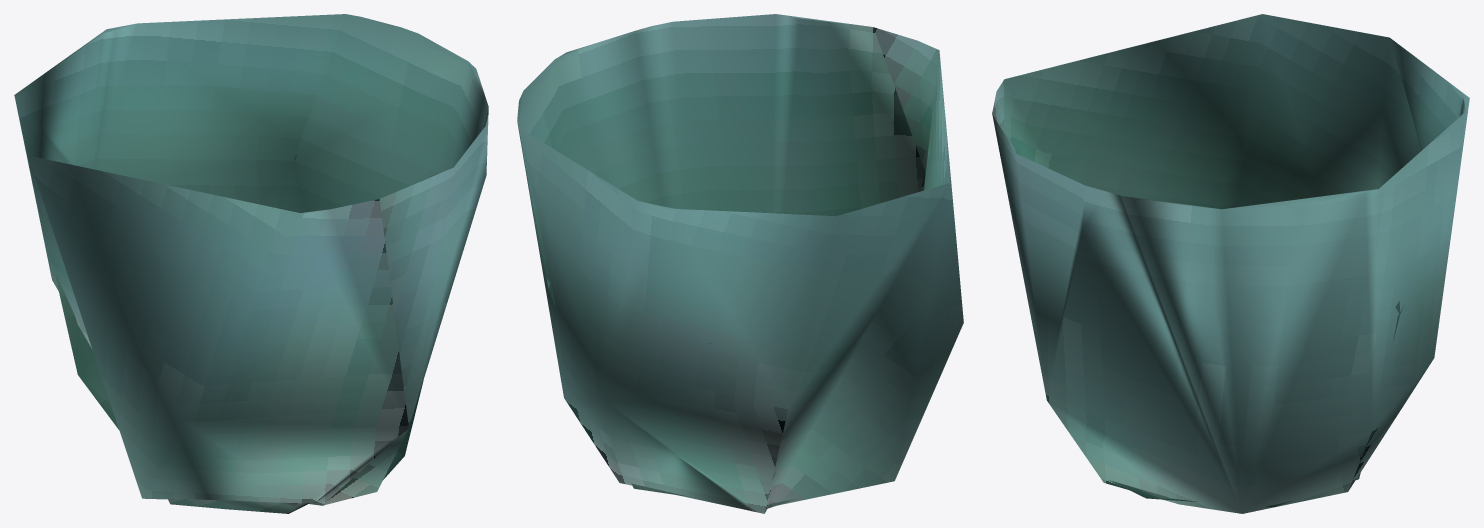
Rendered from Ecoforms_Plant_Container_SB9Turquoise-low.glb.
3 renders of one model, left to right at view 1: azimuth 30°, elevation 25°; view 2: azimuth 150°, elevation 25°; view 3: azimuth 270°, elevation 25°, orthographic.
Parts seen in each view (by area): view 1: Ecoforms_Plant_Container_SB9Turquoise; view 2: Ecoforms_Plant_Container_SB9Turquoise; view 3: Ecoforms_Plant_Container_SB9Turquoise.
Part boxes in pixels (left/top/right/bottom): Ecoforms_Plant_Container_SB9Turquoise: left=14, top=14, right=488, bottom=513; Ecoforms_Plant_Container_SB9Turquoise: left=517, top=14, right=963, bottom=513; Ecoforms_Plant_Container_SB9Turquoise: left=992, top=14, right=1469, bottom=513.
Bounding box in the file's own units: 0.2978 × 0.2386 × 0.2973.
1 material, 1 textured.
